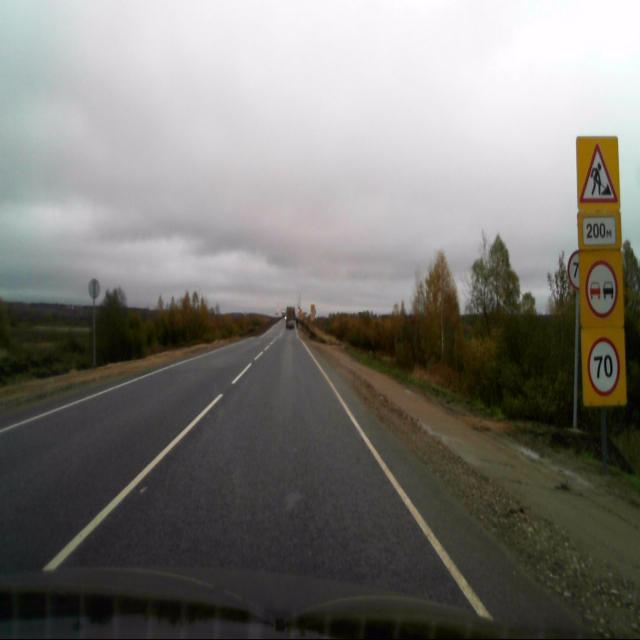road sign: (577, 252, 624, 331), (582, 331, 629, 409), (577, 135, 622, 212), (576, 212, 622, 251)
